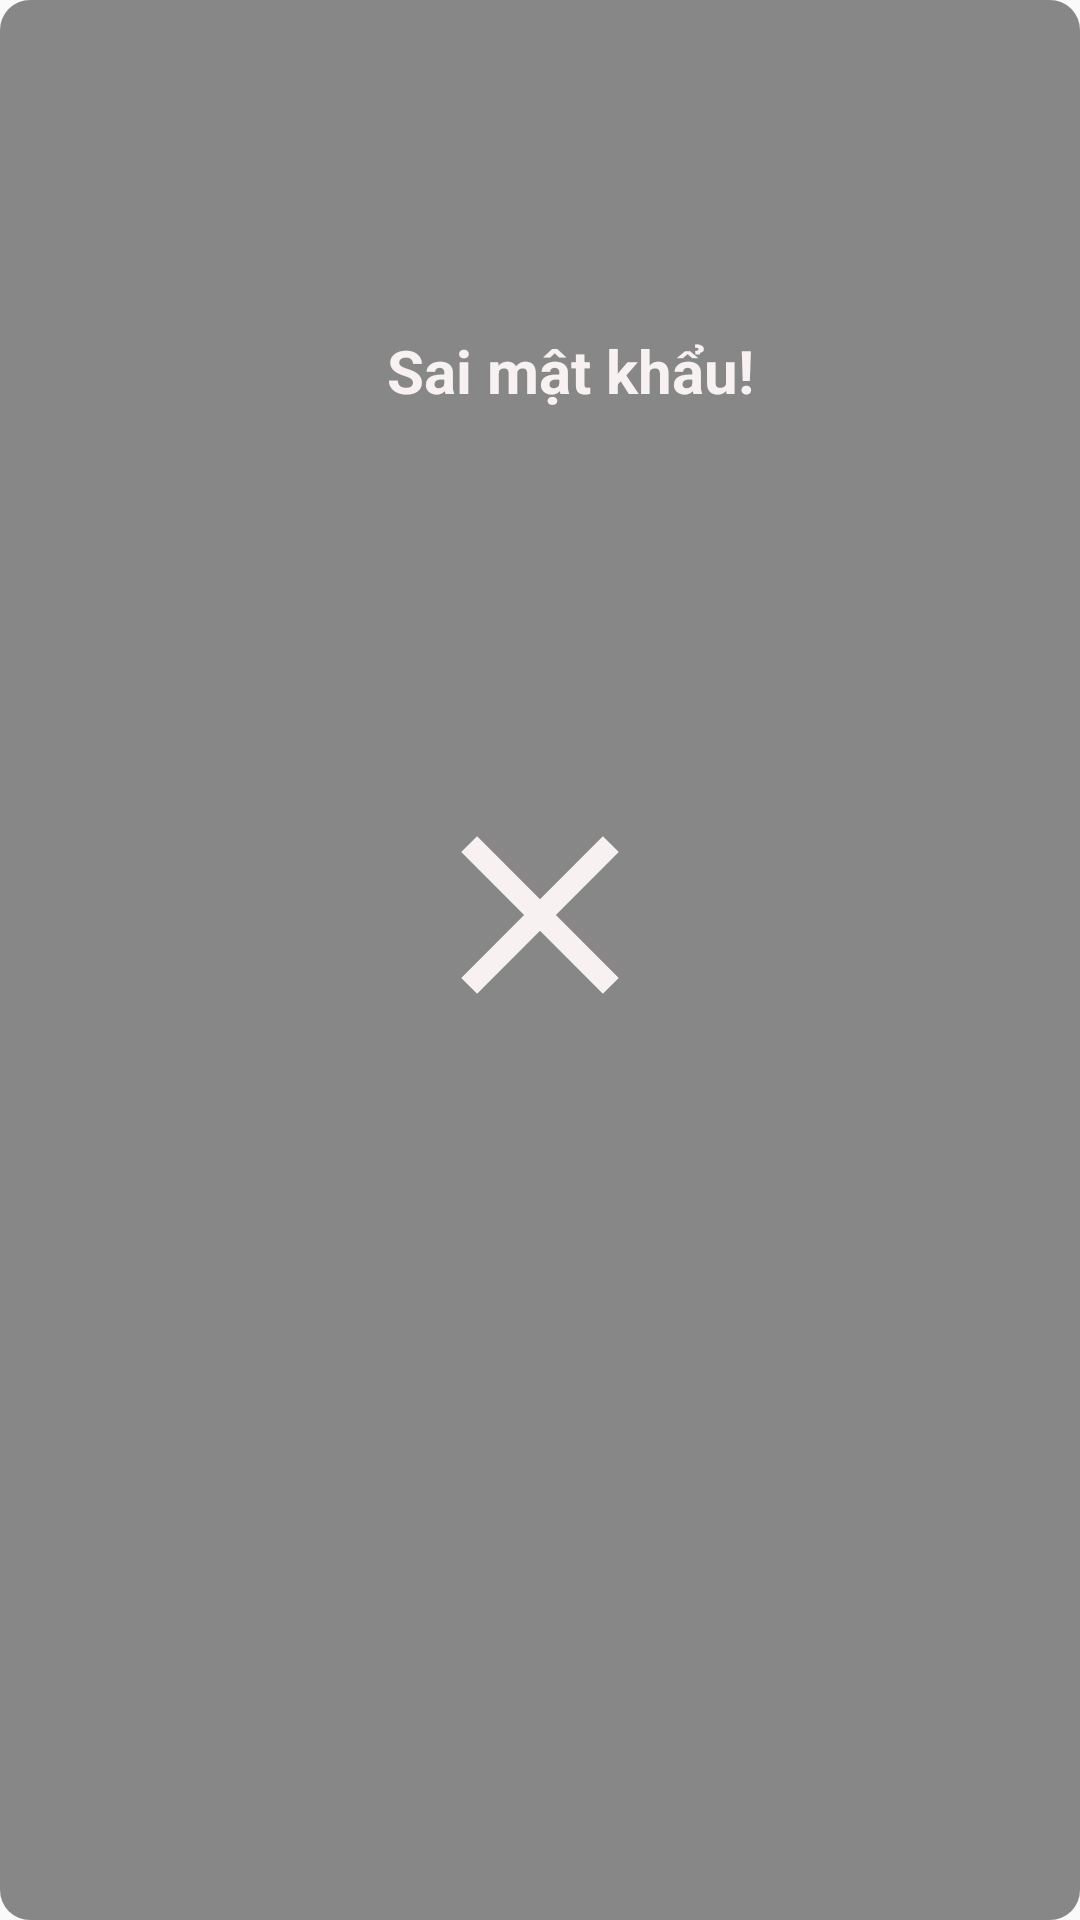

Icons on this 1080×1920 Android screen, each with the point to tap as (x,y):
fail: (540,915)
